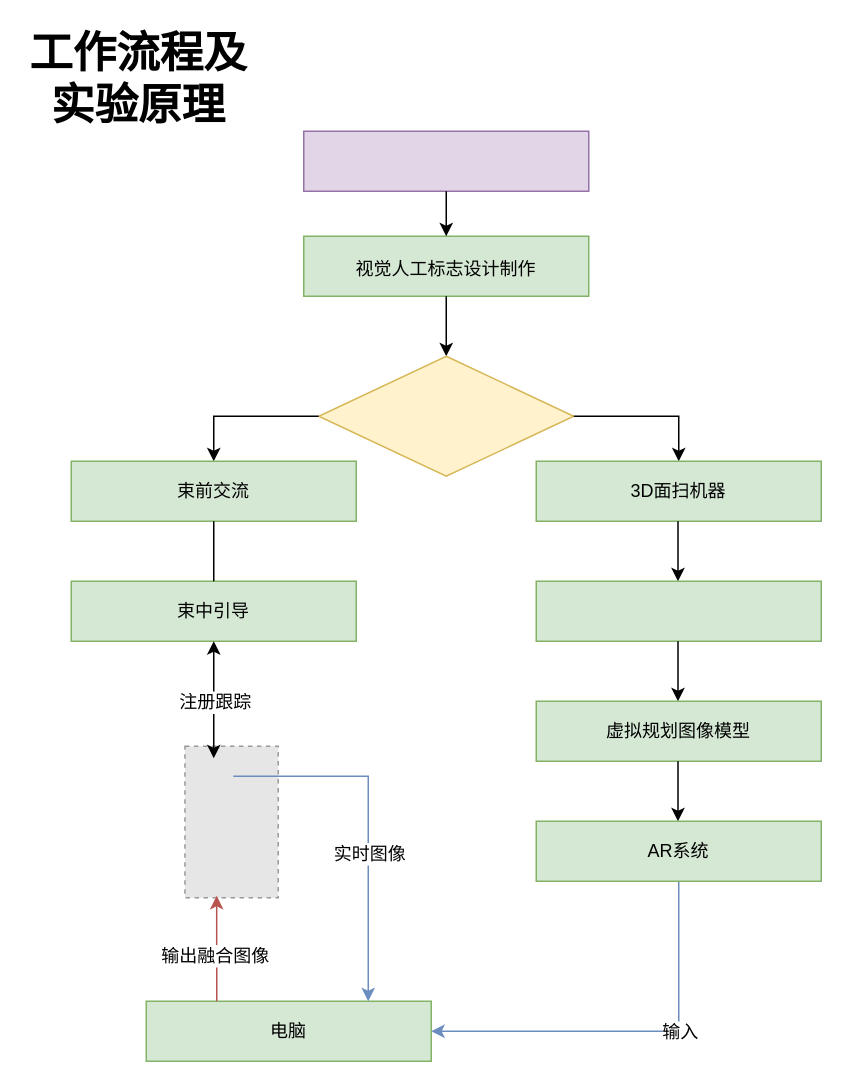
Image size: 848x1088. Some labels were removed from this diagram. Grey dashed boxes stand in for pictures. The shapes that lost their labels are listed below. From the top down, each one's box as (x1, y1, x2, y2) in pixels, then its label:
(302, 130, 589, 191): AR-LiDAR 硬软件系统开发
(317, 355, 574, 476): 患者+牙支持式 视觉人工标志
(535, 580, 821, 641): 虚拟手术规划
